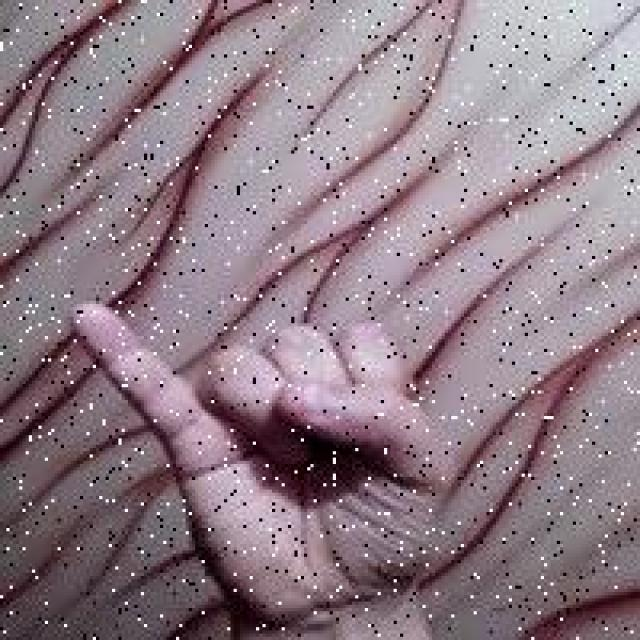J: (59, 291, 459, 605)
